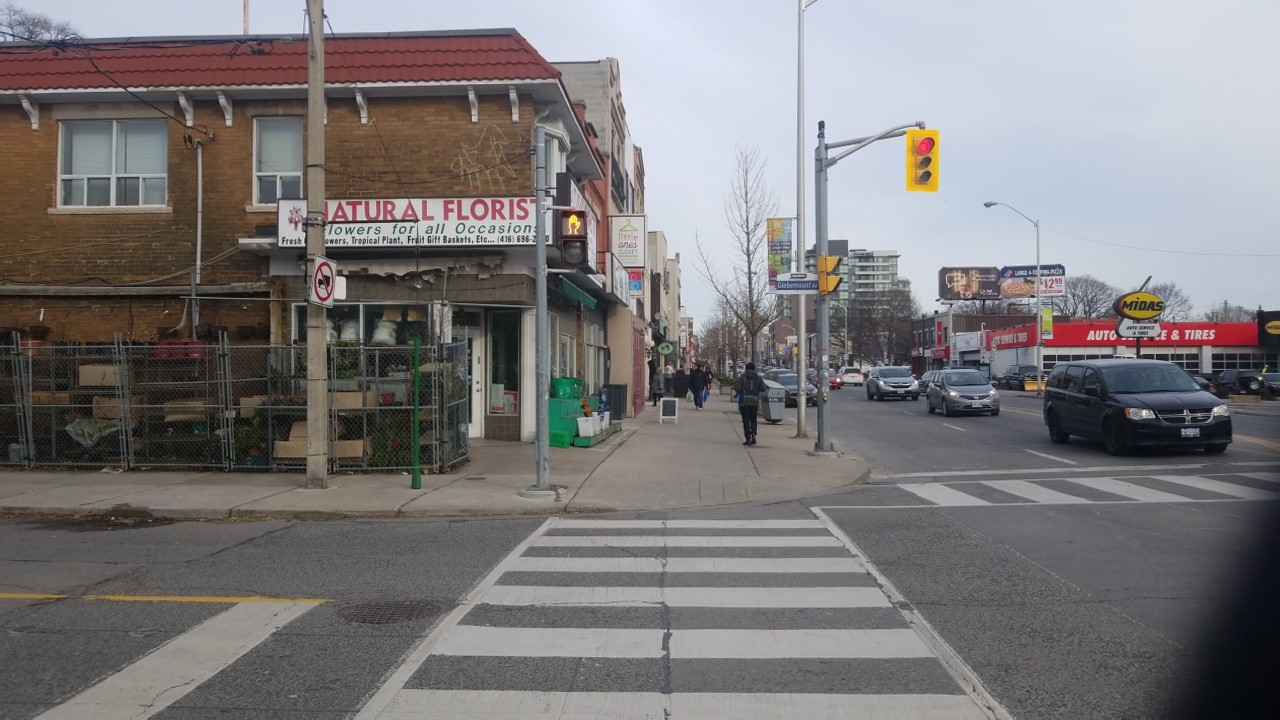light: (556, 206, 590, 270)
